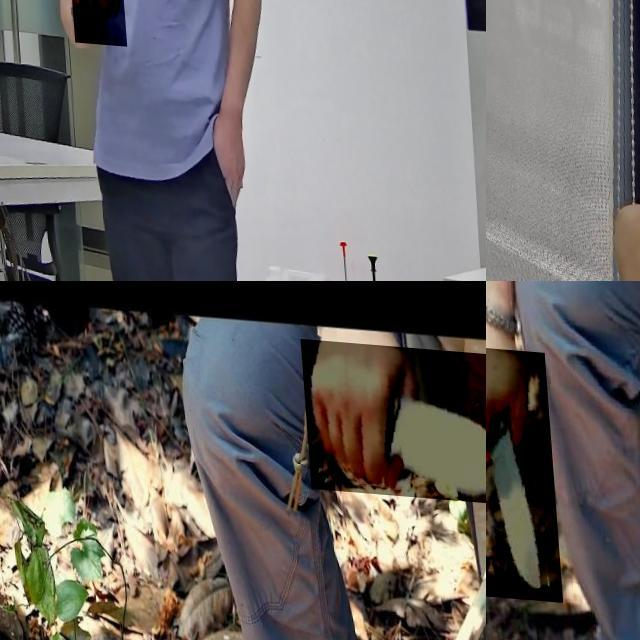-: (300, 332, 486, 496), (486, 339, 556, 597)
gun-knife-thesis - v11 Yolov5 augmented: (60, 0, 123, 92)
